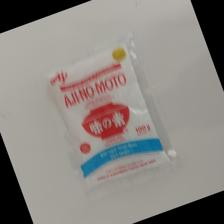Ajinomoto: (39, 44, 176, 187)
